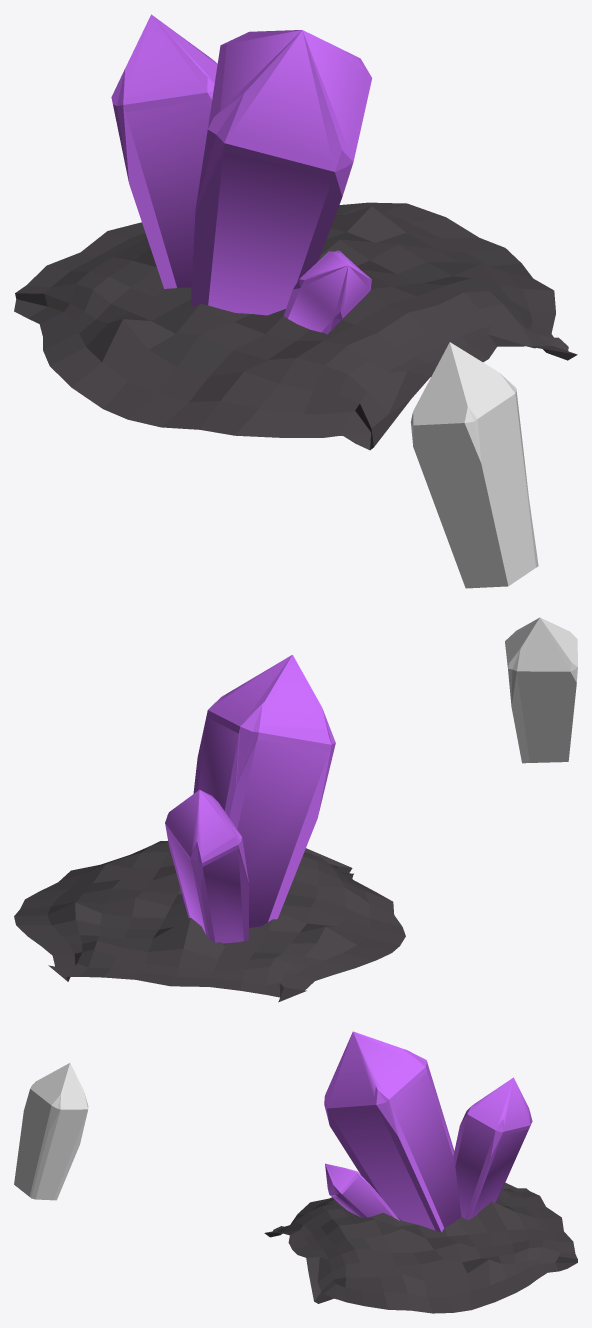
File: cryst.glb
3 views of the same model, one above another, from view 1: azimuth 30°, elevation 25°; view 2: azimuth 150°, elevation 25°; view 3: azimuth 270°, elevation 25° (orthographic). The views are drawn at different scales.
Parts seen in each view (by area): view 1: Plane, Cube.001; view 2: Plane, Cube.001; view 3: Plane, Cube.001.
Boxes of the visible parts, x1,y1,x2,y2 form: Plane: (14,14,577,450); Cube.001: (410,342,538,588); Plane: (14,655,405,1002); Cube.001: (505,617,577,763); Plane: (264,1031,577,1313); Cube.001: (14,1063,88,1200).
Bounding box in the file's own units: 1.56 × 1.14 × 2.81.
